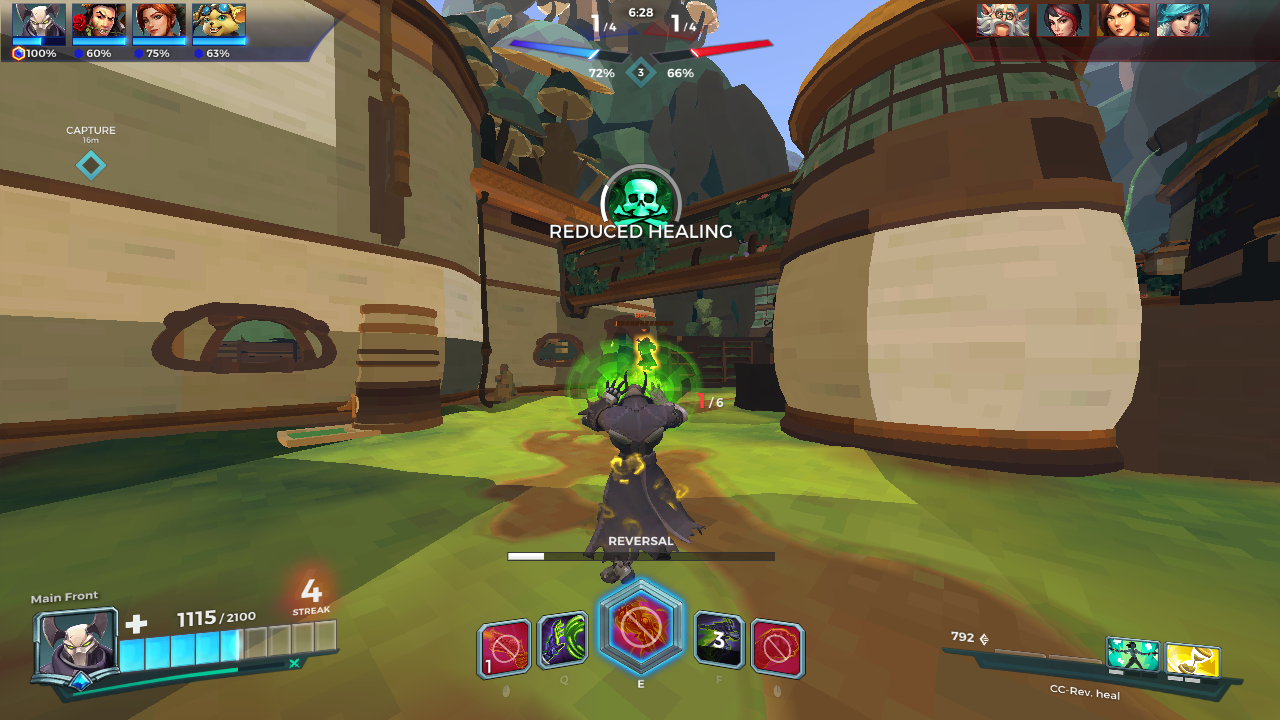model: (633, 332, 661, 368)
